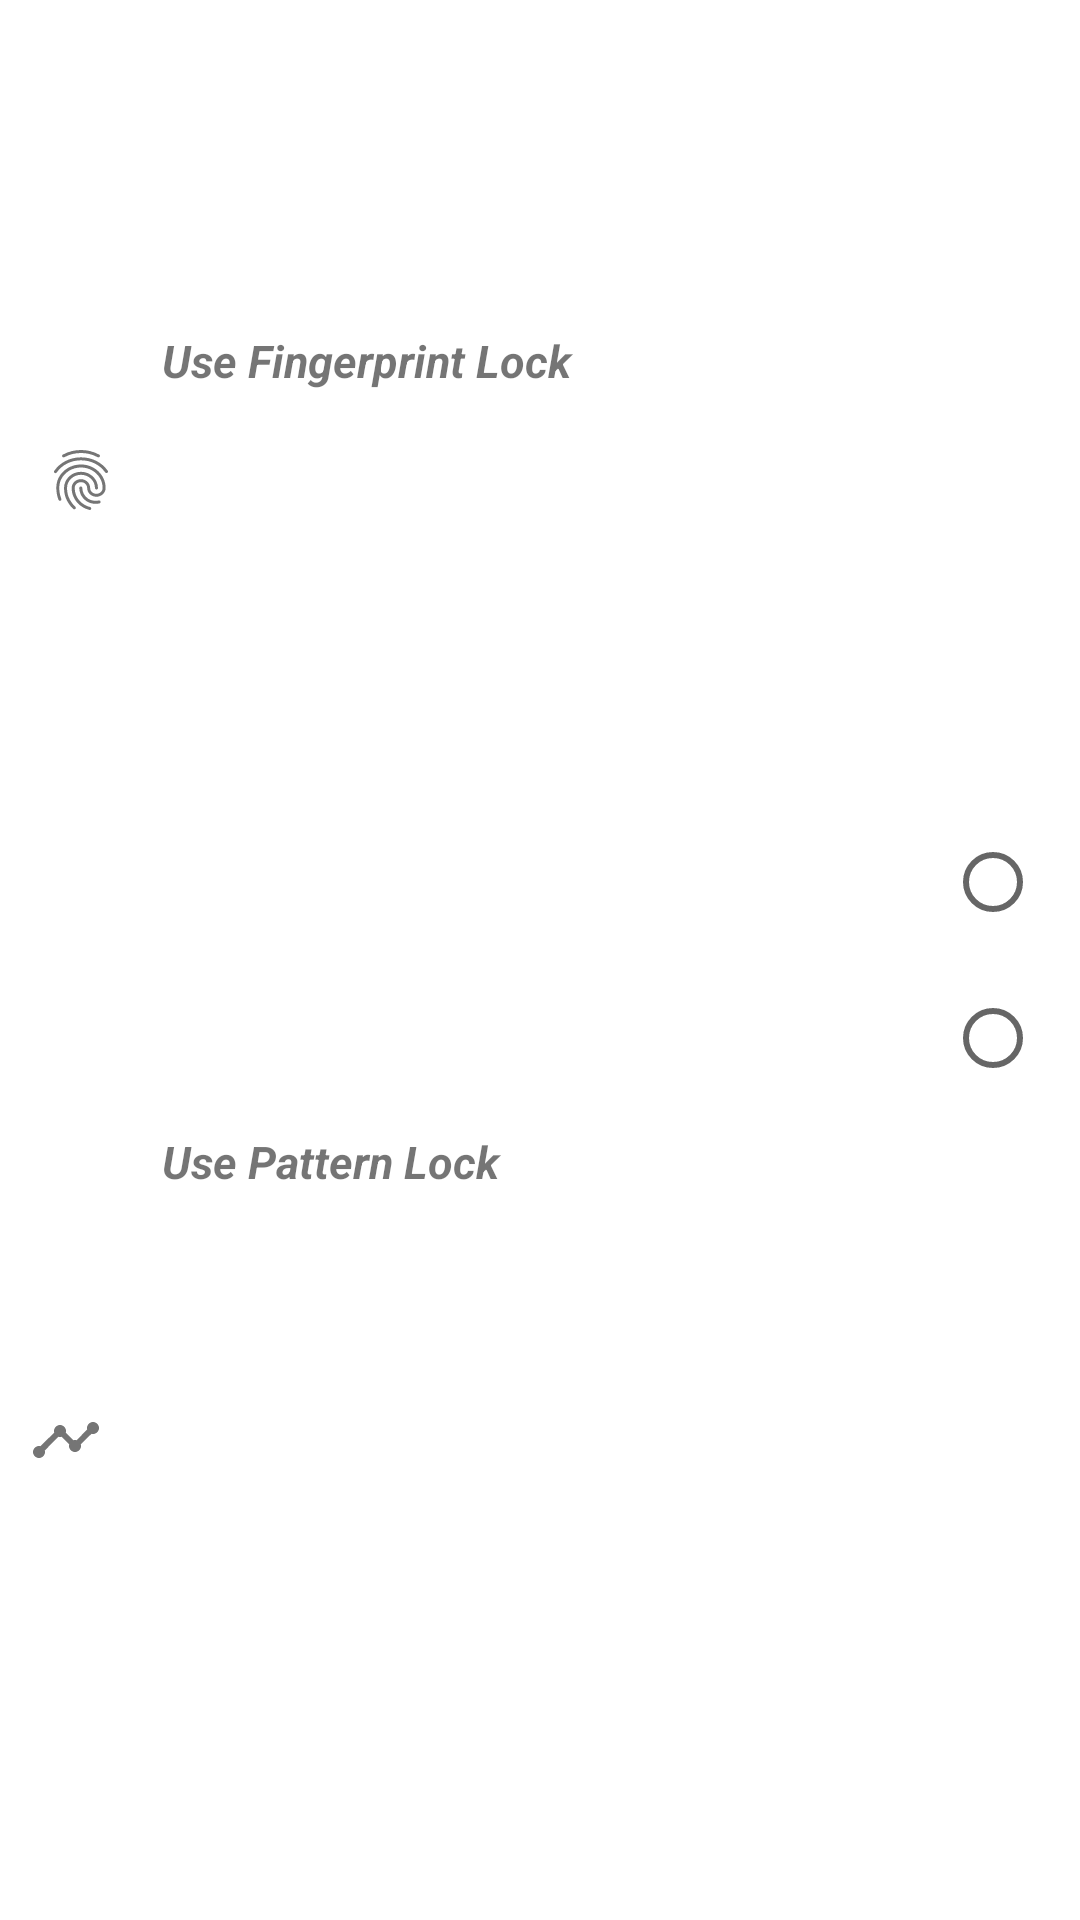

Where to tap for icons on this 1080 x 1920 app screen, as (x=x, y=y):
timeline: (x=66, y=1440)
